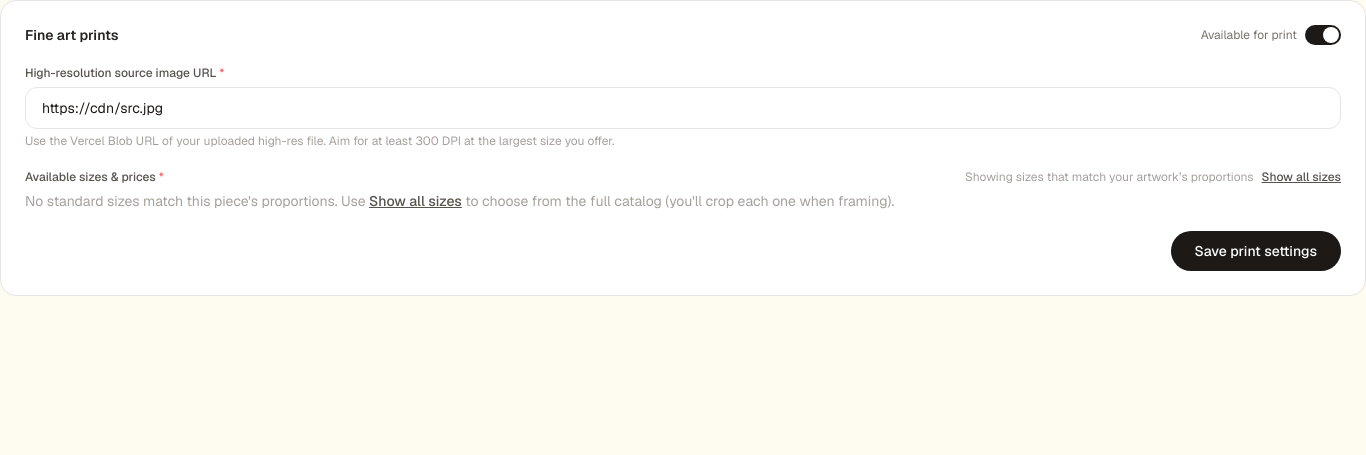
Test: PrintConfigForm — show all Prodigi sizes (seller option) › shows no sizes by default for an aspect with no within-10% match, then reveals all on toggle
Expected: the text "No standard sizes match" is shown, [25, 192, 366, 210]
Click the button "Show all sizes" in the row of "Available sizes & prices". click: coordinates (1301, 177)
box: [1262, 169, 1341, 185]
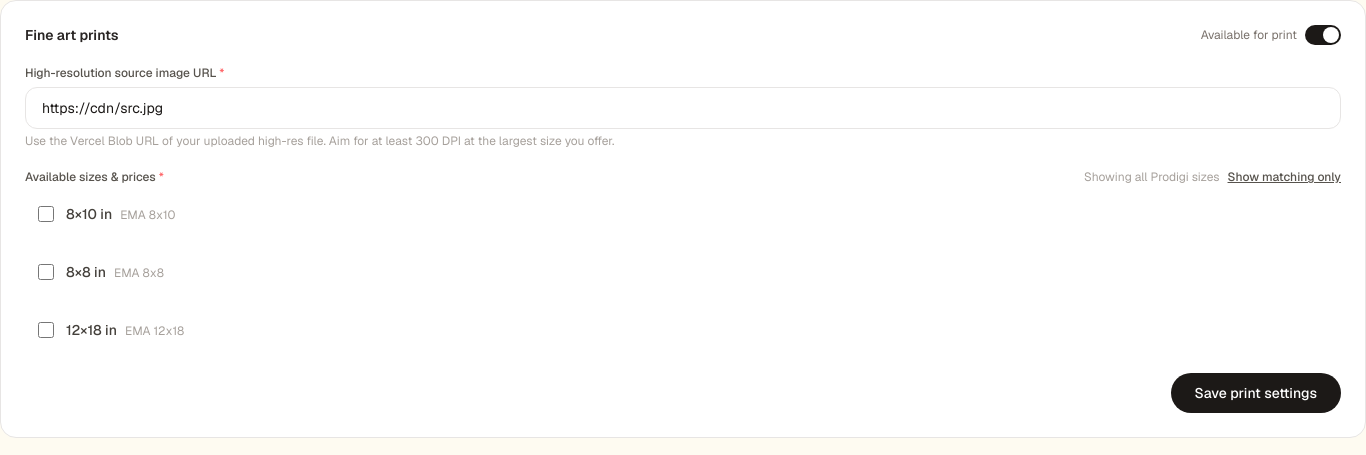
Result: the number of checkboxes is 3 at [38, 206, 54, 222]; [38, 264, 54, 280]; [38, 322, 54, 338]
